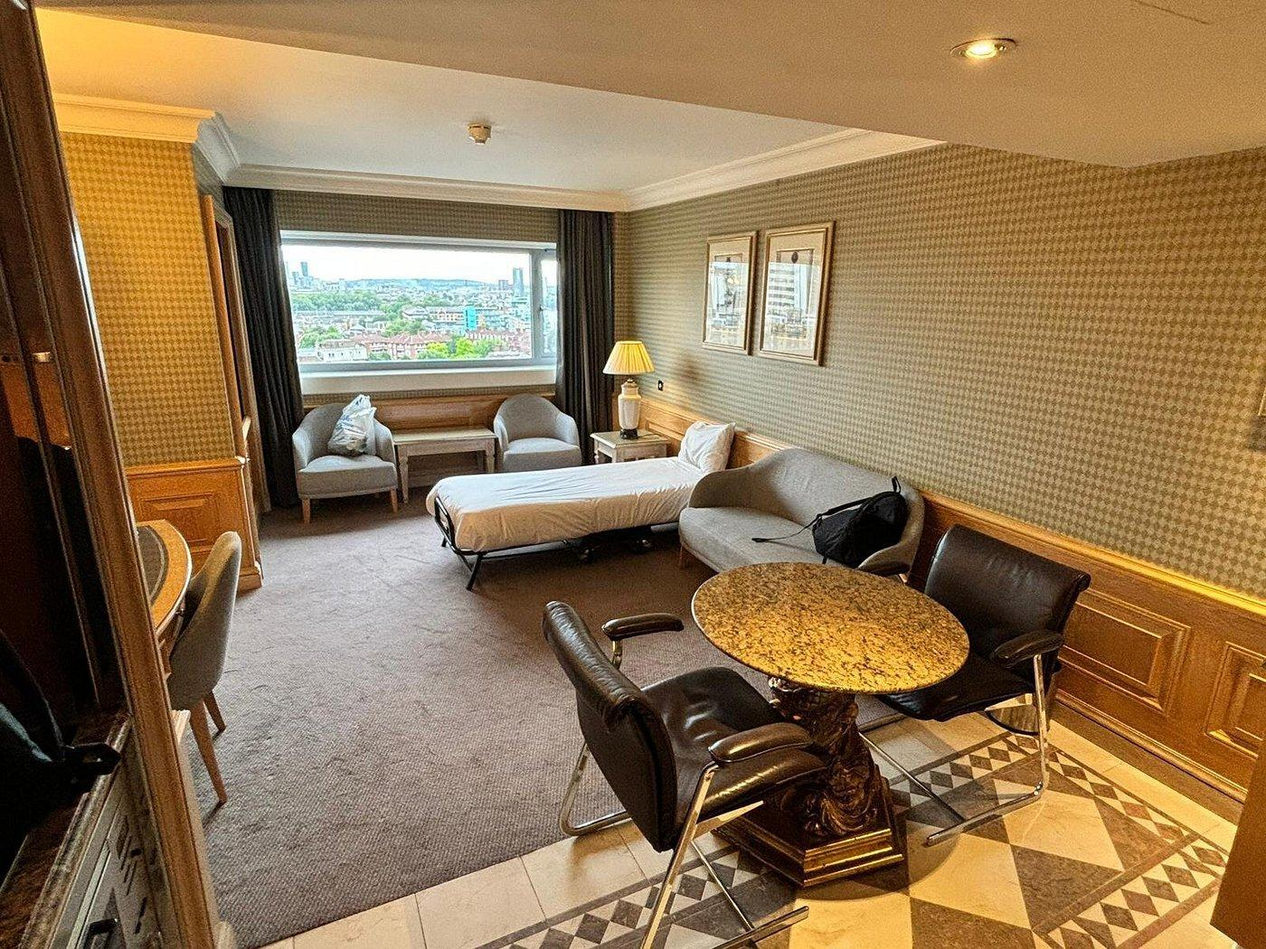chair: (552, 592, 803, 949), (928, 523, 1091, 819), (488, 393, 585, 471)
clean_bed: (449, 420, 742, 545)
clean_floor: (277, 530, 568, 949)
organized table: (686, 568, 968, 898)
